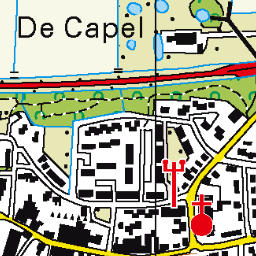church: (186, 192, 216, 238)
